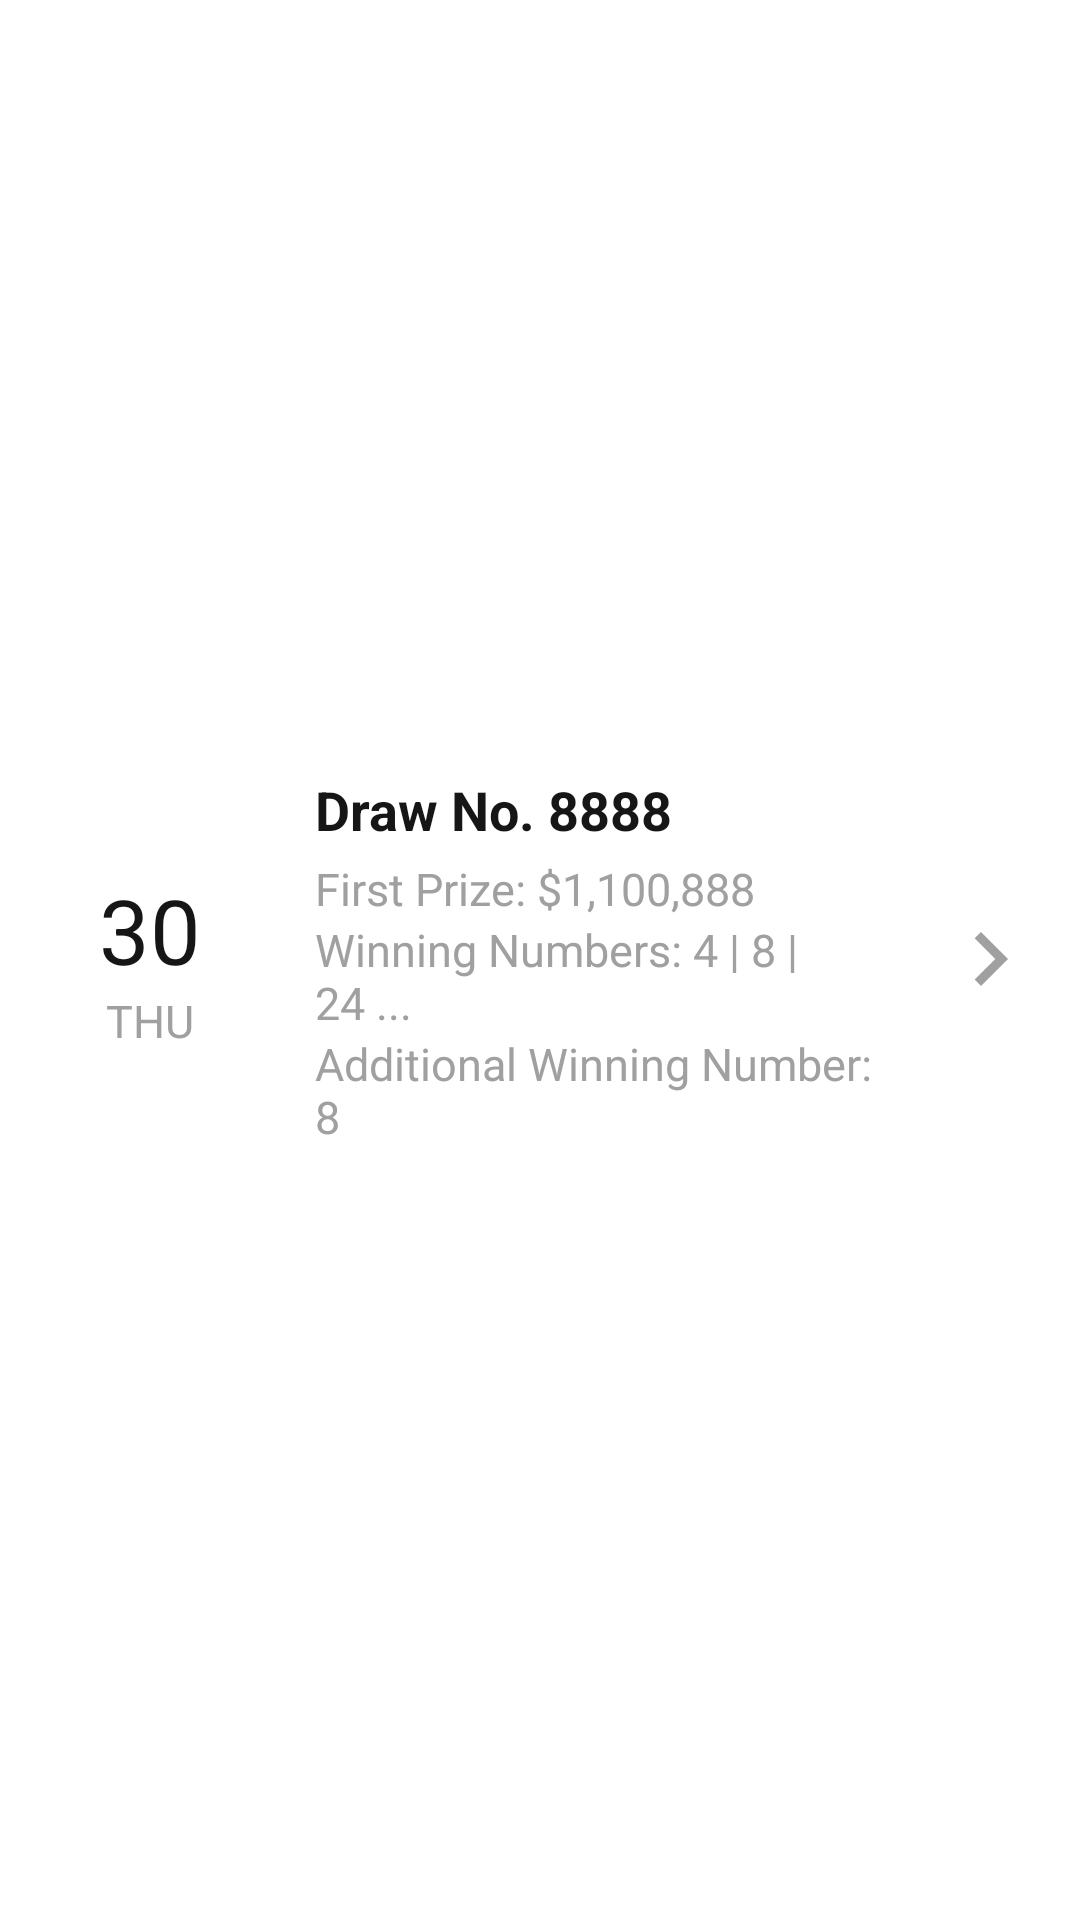

Screen size 1080 × 1920. Icon name, then its center in pixels as (x=x, y=y):
results arrow right: (x=991, y=959)
